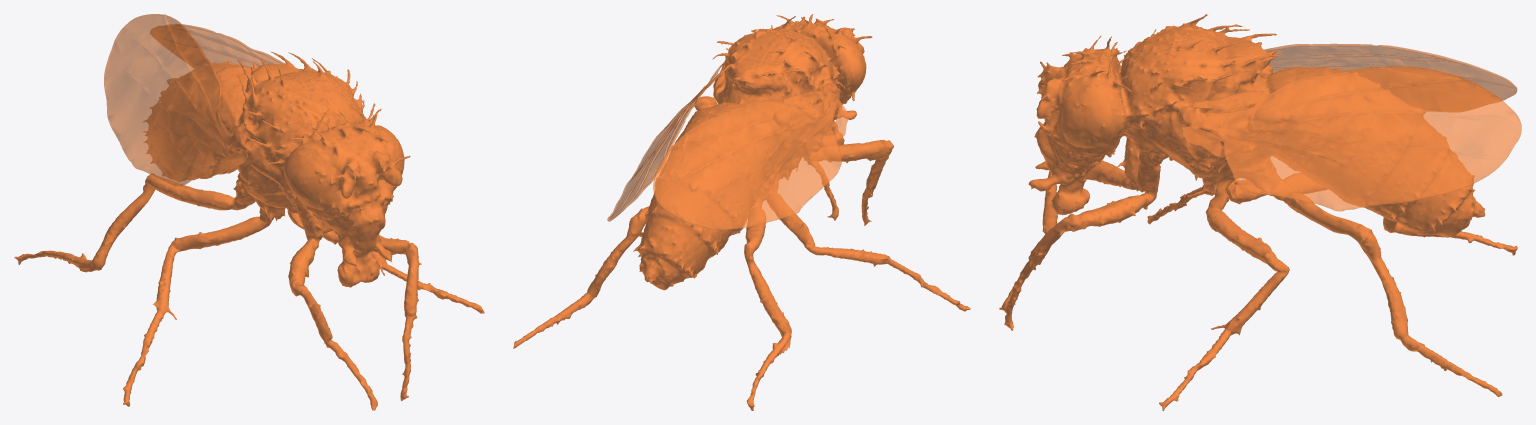
Rendered from fly.glb.
The picture shows the model from 3 angles, left to right: view 1: azimuth 30°, elevation 25°; view 2: azimuth 150°, elevation 25°; view 3: azimuth 270°, elevation 25°; orthographic projection. The views are drawn at different scales.
Visible parts, largest first — view 1: Fly; view 2: Fly; view 3: Fly.
Boxes of the visible parts, bbox=[...] form: Fly: bbox=[14, 14, 484, 410]; Fly: bbox=[513, 14, 970, 410]; Fly: bbox=[999, 14, 1521, 410].
Size of the model in its own units: 1.75 by 1.28 by 2.03.
